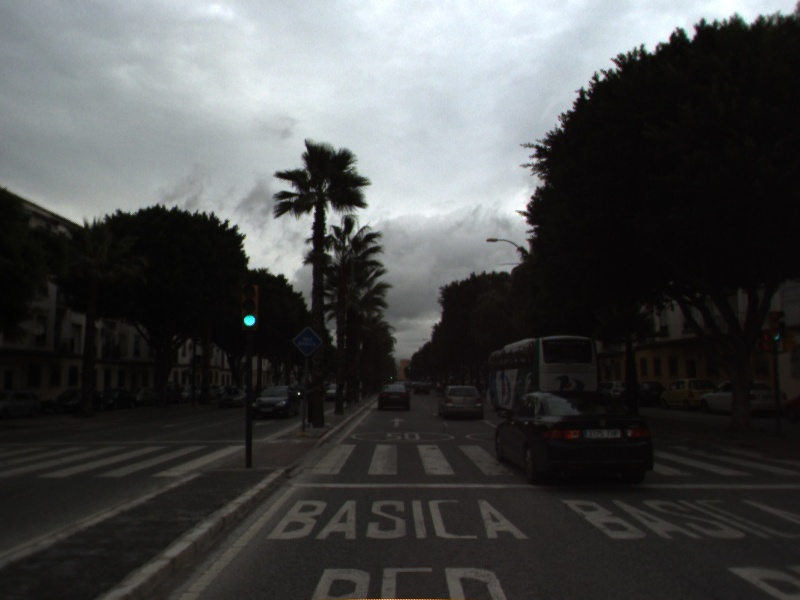STRAIGHT: (475, 416, 499, 429), (387, 415, 409, 429)
